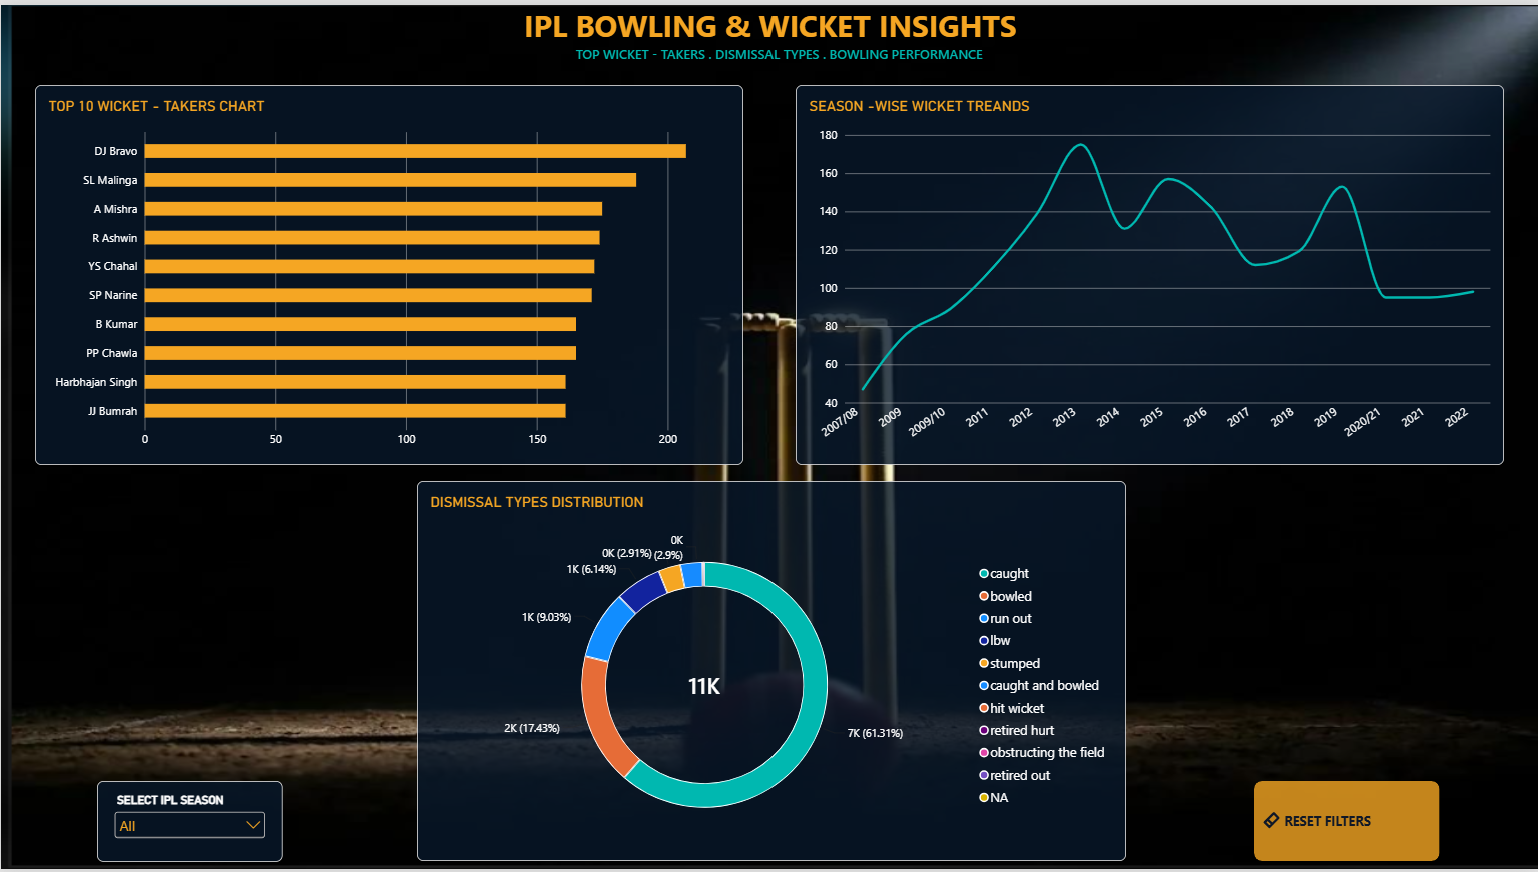

What the dashboard file says about the page in this screenshot:
{"tool":"powerbi","page":{"name":"Bowling & Wicket Insights","canvas":[1920,1080],"ordinal":4},"visuals":[{"type":"textbox","box":[611.4,0,697.1,98.6],"z":0},{"type":"clusteredBarChart","title":"TOP 10 WICKET - TAKERS CHART","fields":{"Category":["IPL_Ball_by_Ball_2008_2022.bowler"],"Y":["Sum(IPL_Ball_by_Ball_2008_2022.isWicketDelivery)"]},"box":[42.5,100,885,475],"z":0,"group":"g2"},{"type":"lineChart","title":"SEASON -WISE WICKET TREANDS","fields":{"Category":["ipl-matches.Season"],"Y":["Sum(IPL_Ball_by_Ball_2008_2022.isWicketDelivery)"]},"box":[992.5,100,885,475],"z":1000,"group":"g2"},{"type":"donutChart","title":"DISMISSAL TYPES DISTRIBUTION","fields":{"Category":["IPL_Ball_by_Ball_2008_2022.kind"],"Y":["Sum(IPL_Ball_by_Ball_2008_2022.isWicketDelivery)"]},"box":[520,595,885,475],"z":1000},{"type":"group","id":"g1","title":"Group 3","box":[121,970,1678,100.9],"z":2000},{"type":"group","id":"g2","title":"Group 1","box":[42.5,100,1835,475],"z":3000},{"type":"slicer","fields":{"Values":["ipl-matches.Season"]},"box":[121,970,231.8,100.9],"z":8000,"group":"g1"},{"type":"actionButton","box":[1567,970,232,100],"z":10000,"group":"g1"}]}

Visuals, with their boxes in screenshot pixels (x1, y1, x2, y2), scaled from the page's 1920x1080 canvas onto the 1538x872 screenshot:
textbox: x1=490 y1=0 x2=1048 y2=80
"TOP 10 WICKET - TAKERS CHART" clusteredBarChart: x1=34 y1=81 x2=743 y2=464
"SEASON -WISE WICKET TREANDS" lineChart: x1=795 y1=81 x2=1504 y2=464
"DISMISSAL TYPES DISTRIBUTION" donutChart: x1=417 y1=480 x2=1125 y2=864
"Group 3" group: x1=97 y1=783 x2=1441 y2=865
"Group 1" group: x1=34 y1=81 x2=1504 y2=464
slicer - ipl-matches.Season: x1=97 y1=783 x2=283 y2=865
actionButton: x1=1255 y1=783 x2=1441 y2=864
